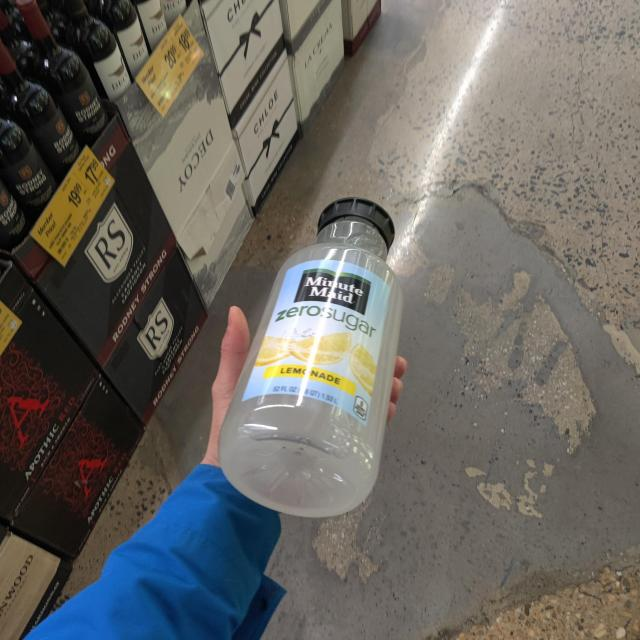Juice: (238, 168, 423, 539)
